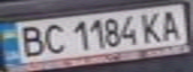1: (66, 18, 90, 51), (87, 16, 106, 50)
4: (118, 12, 142, 46)
8: (103, 15, 124, 47)
A: (154, 7, 187, 42)
B: (12, 22, 48, 58)
C: (39, 21, 69, 55)
K: (136, 9, 166, 44)
